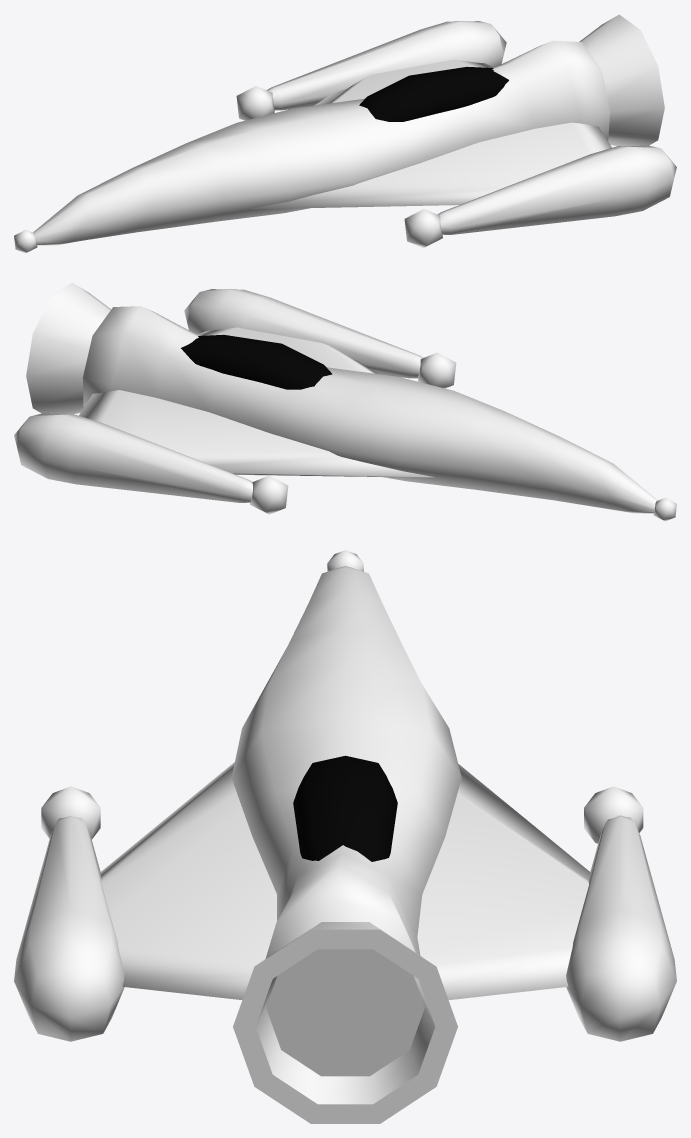
Rendered from enemy_1.glb.
3 renders of one model, top to bottom at view 1: azimuth 30°, elevation 25°; view 2: azimuth 150°, elevation 25°; view 3: azimuth 270°, elevation 25°, orthographic. The views are drawn at different scales.
Visible parts, largest first — view 1: Icosphere.005; view 2: Icosphere.005; view 3: Icosphere.005.
Part boxes in pixels (x1,y1,x2,y2): Icosphere.005: (14,14,676,253); Icosphere.005: (14,282,676,521); Icosphere.005: (14,550,676,1123).
Size of the model in its own units: 7.07 by 1.35 by 4.09.
1 material, 1 textured.
